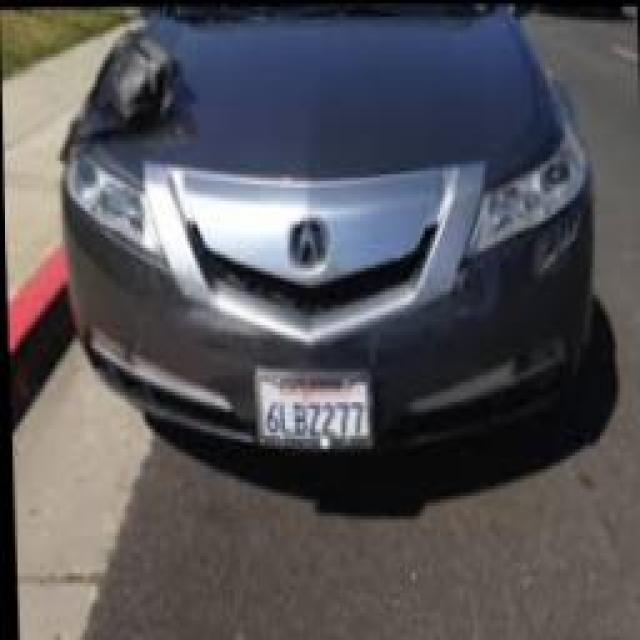Bonnet: (45, 13, 230, 169)
